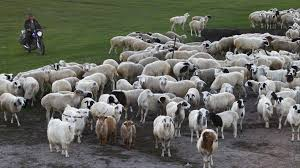sheep: (44, 114, 81, 157), (40, 87, 85, 112), (152, 113, 175, 156), (1, 91, 28, 124), (196, 128, 219, 166), (254, 93, 273, 131), (168, 100, 191, 131), (210, 108, 238, 132), (187, 105, 209, 135), (235, 34, 269, 53), (137, 87, 158, 117), (157, 75, 189, 94), (274, 94, 292, 127), (96, 113, 116, 141), (95, 101, 127, 118), (117, 60, 144, 79), (121, 119, 138, 148), (168, 8, 189, 29), (19, 75, 38, 98), (289, 102, 300, 137), (136, 72, 156, 89), (189, 18, 206, 37), (249, 10, 265, 30), (258, 77, 275, 95)
